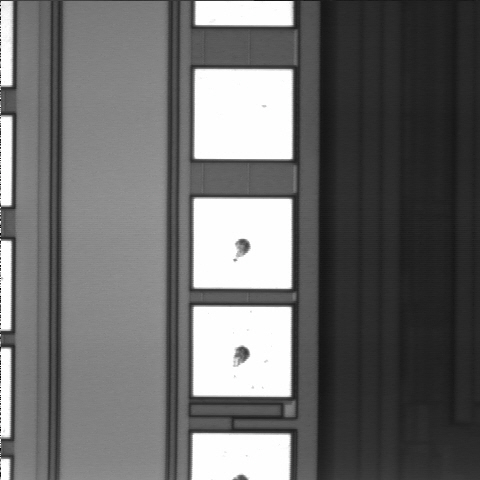pad: (194, 198, 292, 289), (194, 69, 292, 159), (193, 307, 291, 397)
